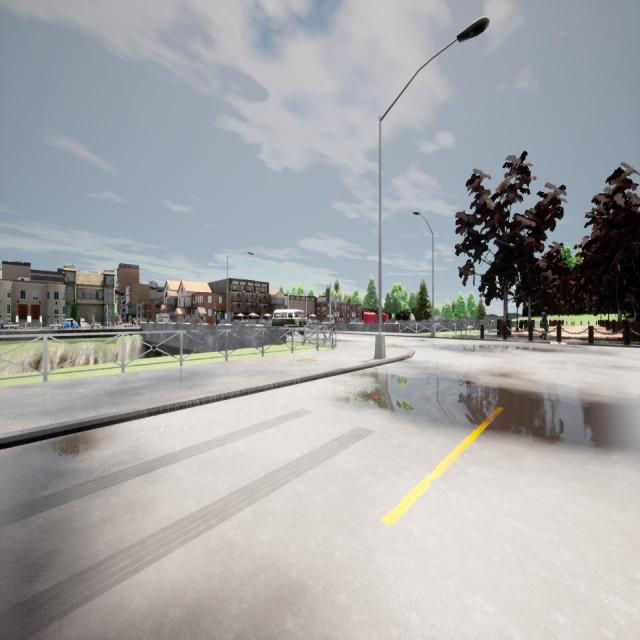Pedestrian: (539, 306, 549, 340)
Vehicle: (272, 309, 306, 326), (62, 318, 78, 328), (2, 322, 20, 330)
traffic_light: (326, 288, 329, 304), (104, 306, 107, 313), (214, 306, 216, 314)
